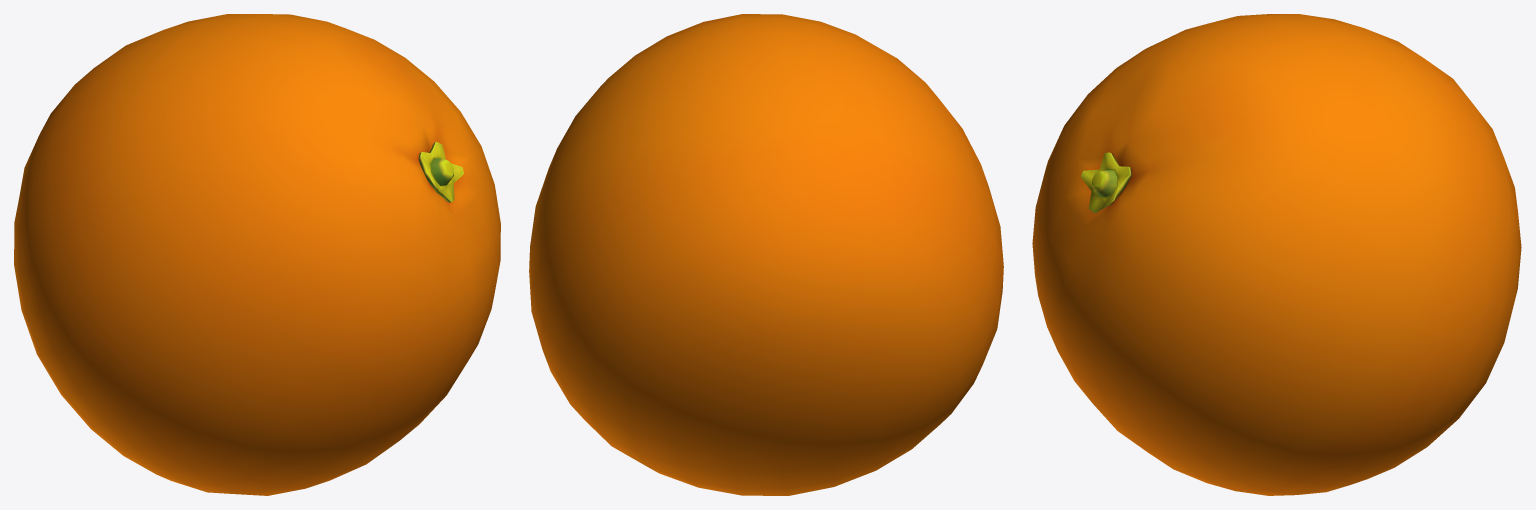
The model's file is orange_final1.glb.
3 views of the same model, side by side, from view 1: azimuth 30°, elevation 25°; view 2: azimuth 150°, elevation 25°; view 3: azimuth 270°, elevation 25° (orthographic).
Visible parts, largest first — view 1: orange; view 2: orange; view 3: orange.
Part boxes in pixels (x1,y1,x2,y2): orange: (14,14,500,495); orange: (529,14,1003,495); orange: (1032,14,1521,495).
Size of the model in its own units: 0.9639 by 0.9662 by 0.965.
1 material, 1 textured.
